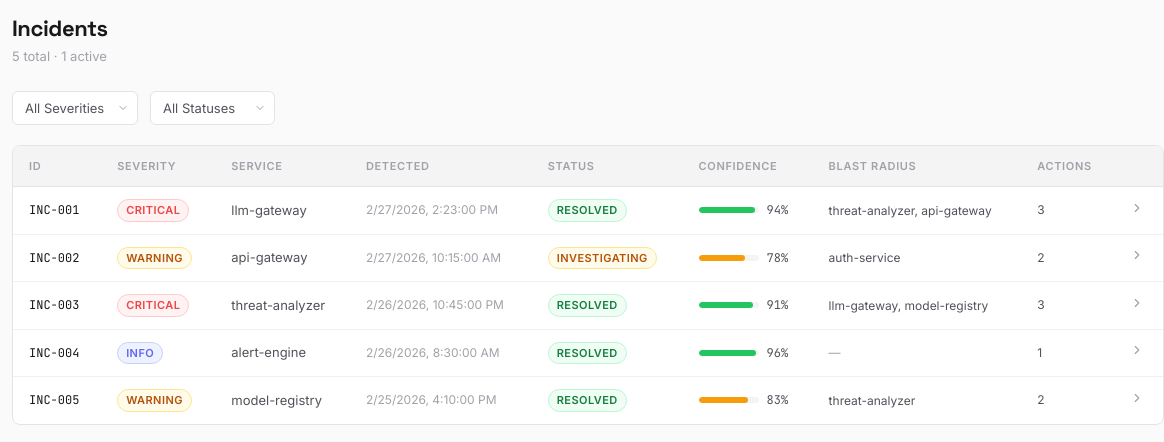
Test: Incidents Page › filtering by severity works
Select "Info" in the dropdown with id "filter-severity": (75, 108) [12,90,138,124]
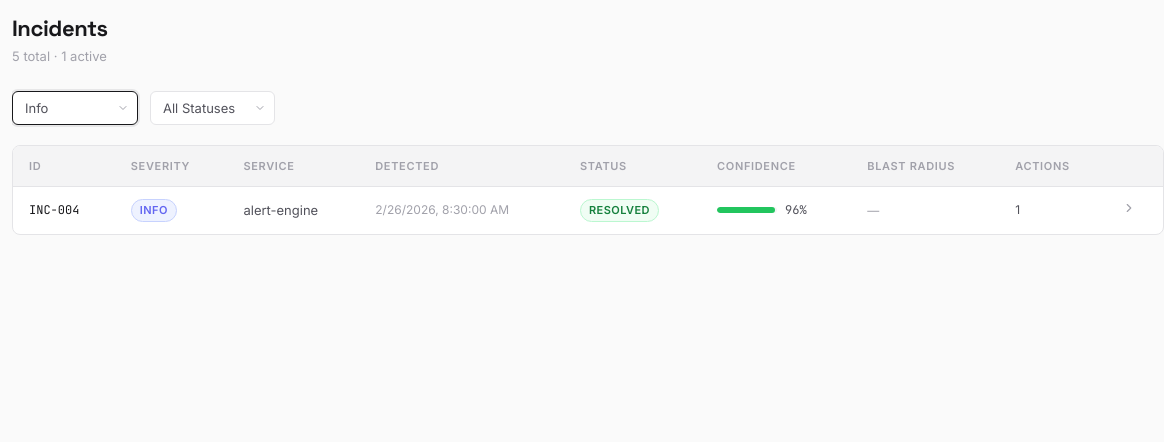
Expected: the text "INC-004" is shown, [13,186,115,234]
Expected: the text "INC-001" is gone
